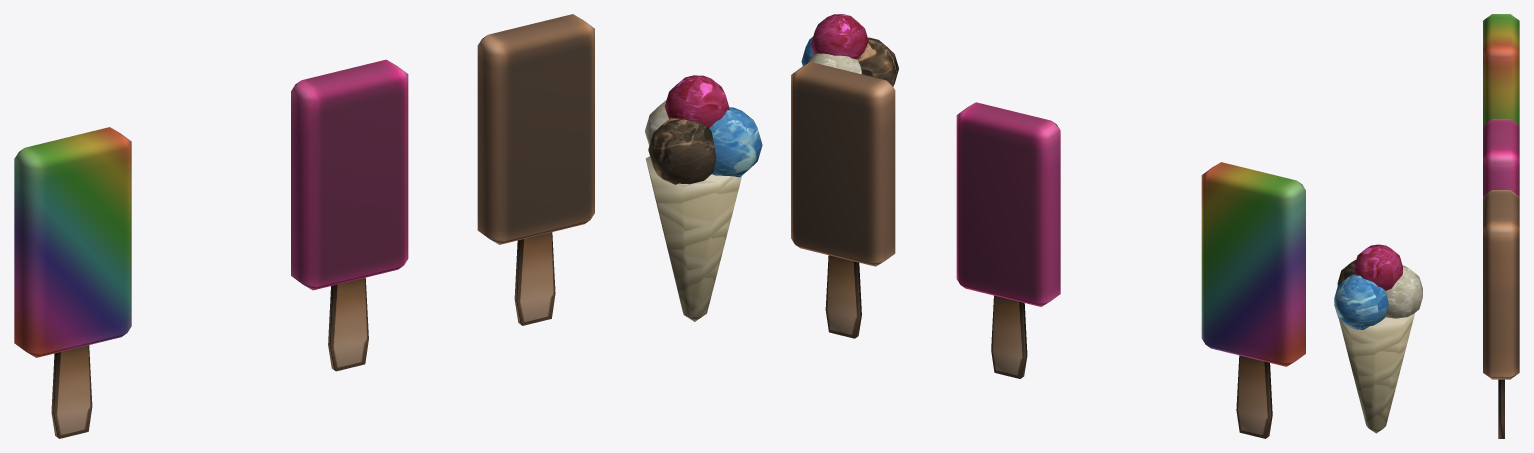
File: icecream.fbx
3 renders of one model, left to right at view 1: azimuth 30°, elevation 25°; view 2: azimuth 150°, elevation 25°; view 3: azimuth 270°, elevation 25°, orthographic. The views are drawn at different scales.
Parts seen in each view (by area): view 1: icecream_2, icecream_3, icecream_1, icecream_4; view 2: icecream_1, icecream_3, icecream_2, icecream_4; view 3: icecream_4, icecream_1, icecream_3, icecream_2.
Boxes of the visible parts, x1,y1,x2,y2 form: icecream_2: [291, 59, 408, 371]; icecream_3: [14, 127, 131, 438]; icecream_1: [477, 14, 594, 325]; icecream_4: [645, 75, 762, 321]; icecream_1: [791, 62, 895, 338]; icecream_3: [1201, 162, 1305, 438]; icecream_2: [956, 102, 1060, 378]; icecream_4: [801, 14, 898, 86]; icecream_4: [1334, 244, 1422, 433]; icecream_1: [1483, 190, 1519, 438]; icecream_3: [1483, 14, 1519, 125]; icecream_2: [1483, 119, 1519, 196].
Size of the model in its own units: 10.62 by 4.57 by 3.38.
